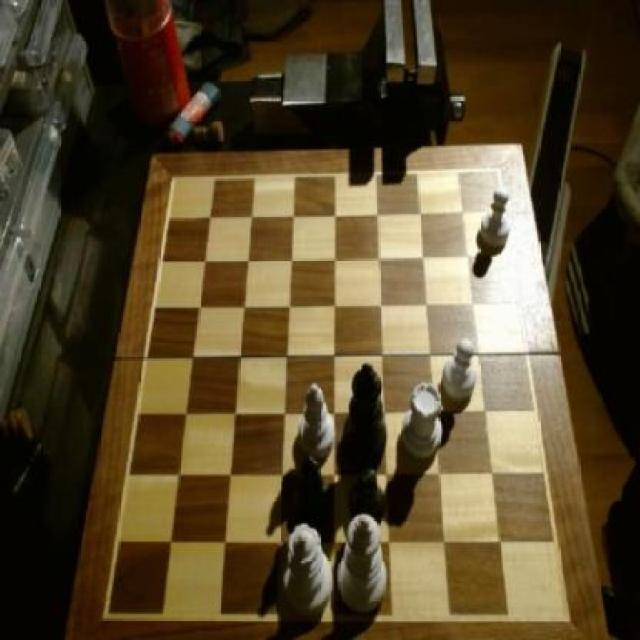bishop: (291, 454, 338, 538)
black-bishop: (343, 360, 388, 461)
black-knight: (349, 466, 387, 530)
black-rook: (297, 380, 340, 460)
white-bishop: (335, 509, 393, 610)
white-knight: (438, 337, 480, 403), (475, 186, 514, 248)
white-pawn: (281, 520, 337, 615)
white-queen: (398, 383, 446, 461)
